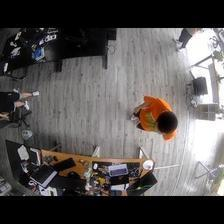normal: (132, 95, 177, 143), (1, 90, 38, 114)
